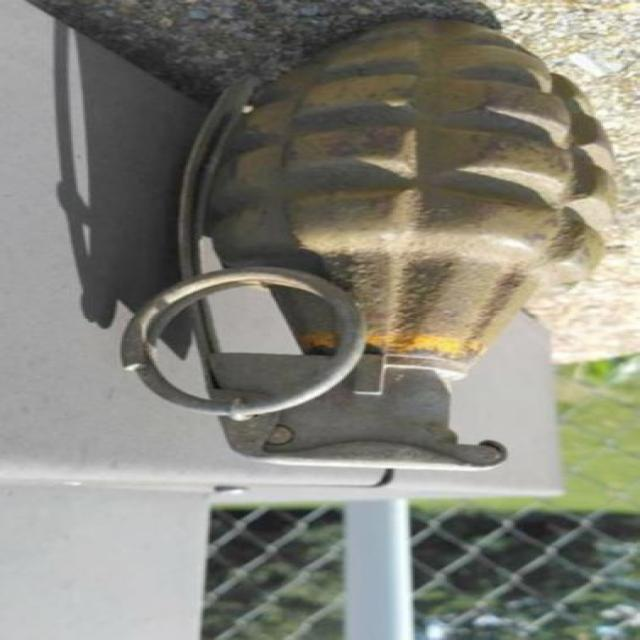grenade: (122, 22, 615, 470)
